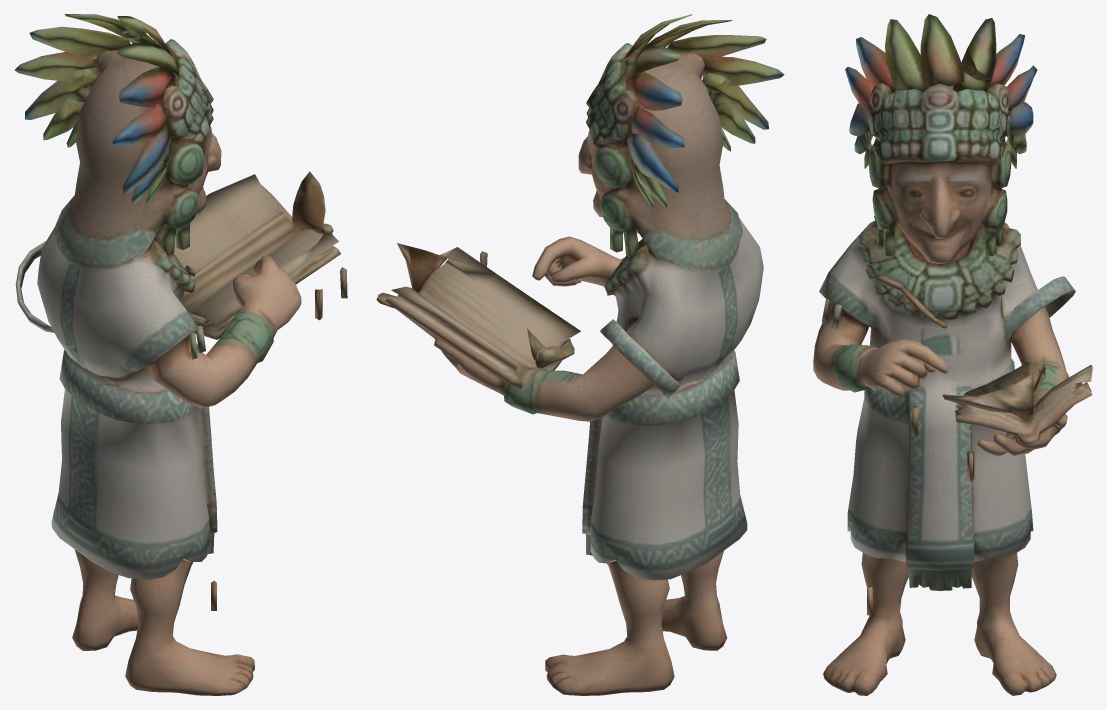
The model's file is itzamna.glb.
The picture shows the model from 3 angles, left to right: view 1: azimuth 30°, elevation 25°; view 2: azimuth 150°, elevation 25°; view 3: azimuth 270°, elevation 25°; orthographic projection. The views are drawn at different scales.
Parts seen in each view (by area): view 1: tripo_node_714119e6-9b41-47ab-b8e7-ba7f10b47bcb; view 2: tripo_node_714119e6-9b41-47ab-b8e7-ba7f10b47bcb; view 3: tripo_node_714119e6-9b41-47ab-b8e7-ba7f10b47bcb.
Boxes of the visible parts, <box> form: tripo_node_714119e6-9b41-47ab-b8e7-ba7f10b47bcb: <box>15,14,347,695</box>; tripo_node_714119e6-9b41-47ab-b8e7-ba7f10b47bcb: <box>376,14,784,695</box>; tripo_node_714119e6-9b41-47ab-b8e7-ba7f10b47bcb: <box>813,14,1092,695</box>.
Bounding box in the file's own units: 0.502 × 0.998 × 0.3965.
1 material, 1 textured.
